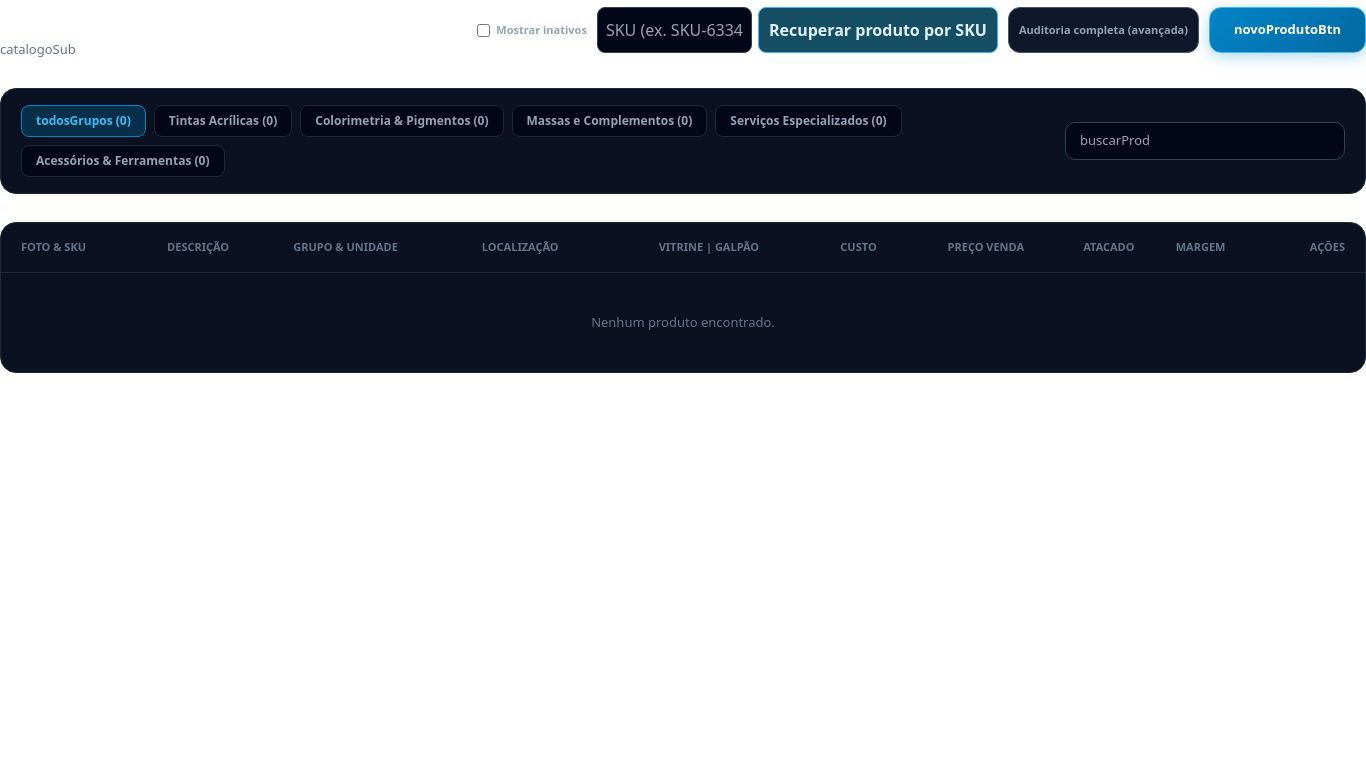
Test: SKU presente apenas no histórico mostra ID sem restaurar
Step 1. Type "66346" into the field named "SKU original" → (674, 30), box top-left (597, 7), bottom-right (752, 53)
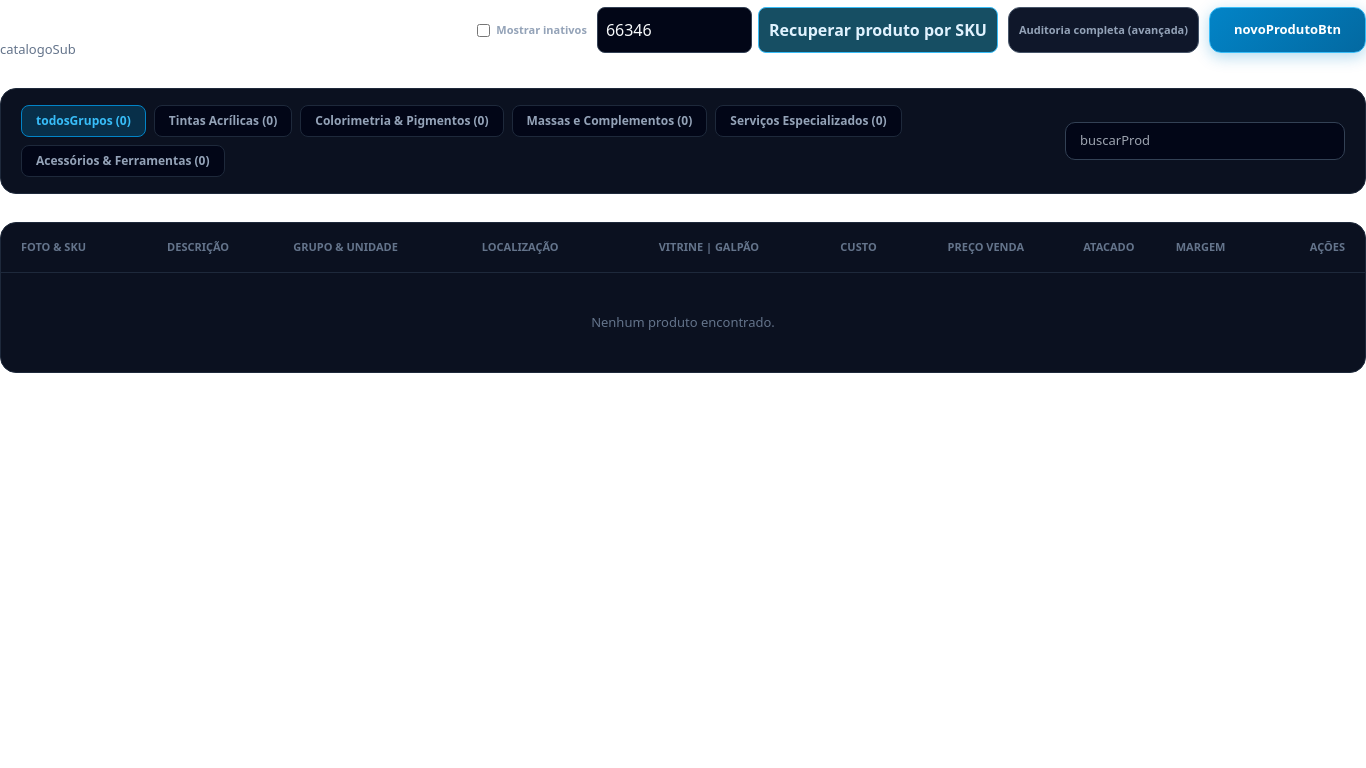
Step 2. Click the button "Recuperar produto por SKU" → (878, 30), box top-left (758, 7), bottom-right (998, 53)
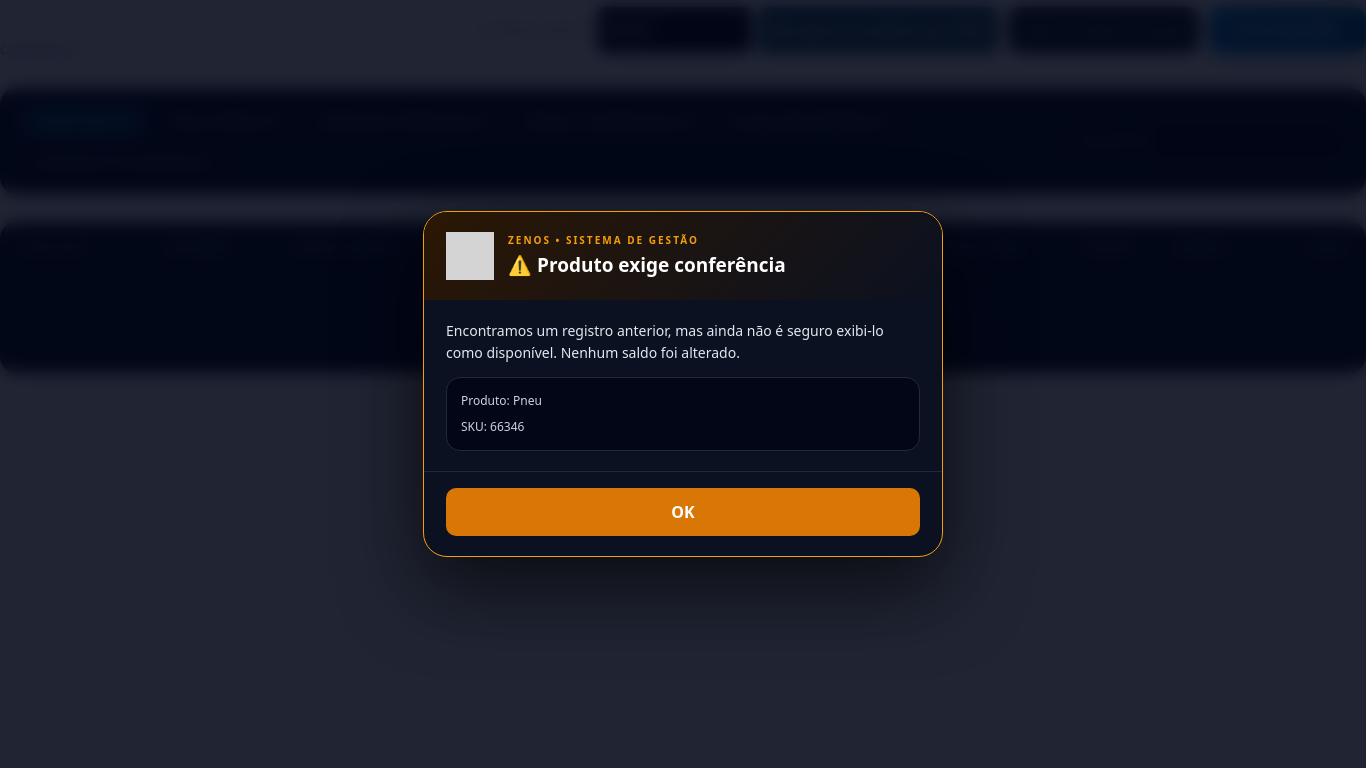
Check: the text "⚠️ Produto exige conferência" is shown, box top-left (508, 252), bottom-right (786, 278)
